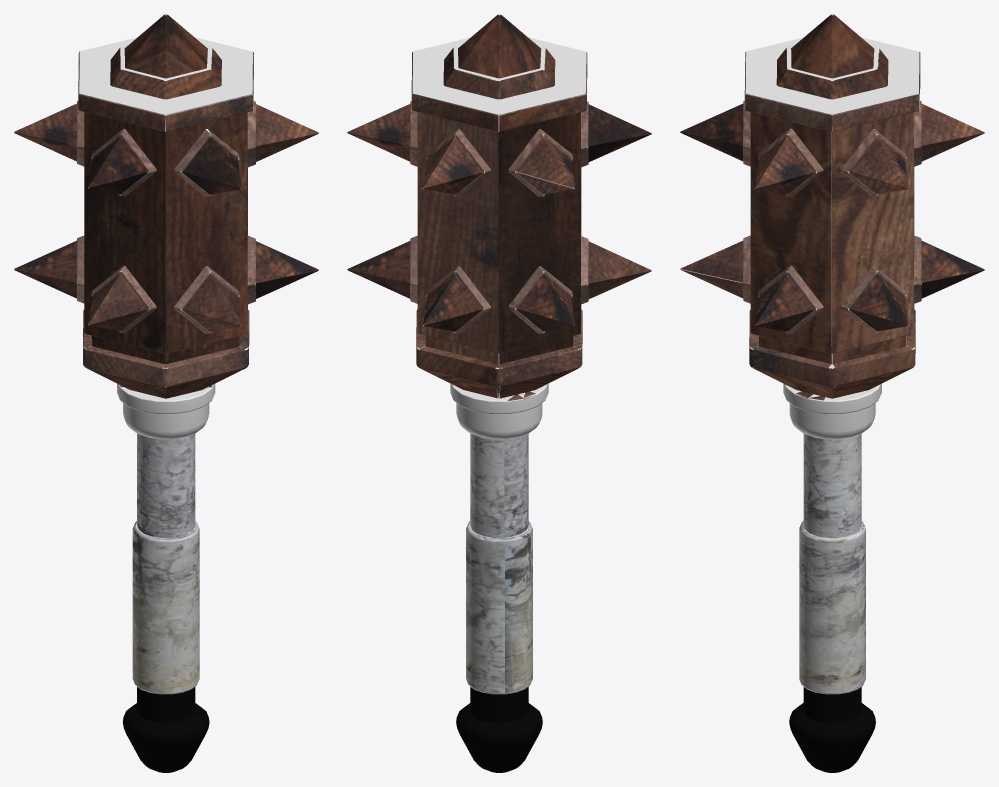
The model's file is Club2.fbx.
The picture shows the model from 3 angles, left to right: view 1: azimuth 30°, elevation 25°; view 2: azimuth 150°, elevation 25°; view 3: azimuth 270°, elevation 25°; orthographic projection.
Parts seen in each view (by area): view 1: Mace_2_Mace_2_Mace_2; view 2: Mace_2_Mace_2_Mace_2; view 3: Mace_2_Mace_2_Mace_2.
Part boxes in pixels (bbox=[...]): Mace_2_Mace_2_Mace_2: bbox=[14, 14, 318, 772]; Mace_2_Mace_2_Mace_2: bbox=[347, 14, 651, 772]; Mace_2_Mace_2_Mace_2: bbox=[680, 14, 984, 772].
Bounding box in the file's own units: 33.55 × 105 × 38.48.
5 materials, 2 textured.
